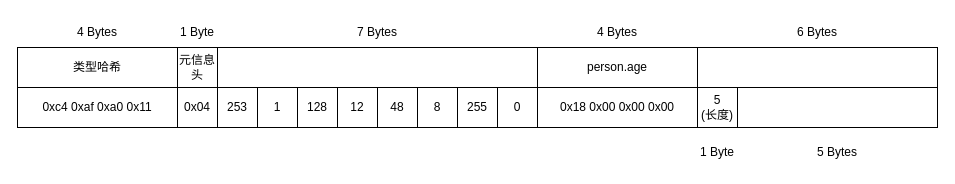
The diagram is 955 pixels wide and 184 high, and some of its shapes have lost their labels. Here are the shapes that lost their labels. From the top down, the centre of each, then its label:
pixel 377 67: 类型信息
pixel 817 67: person.name
pixel 837 107: "Betty" (字符串内容)
